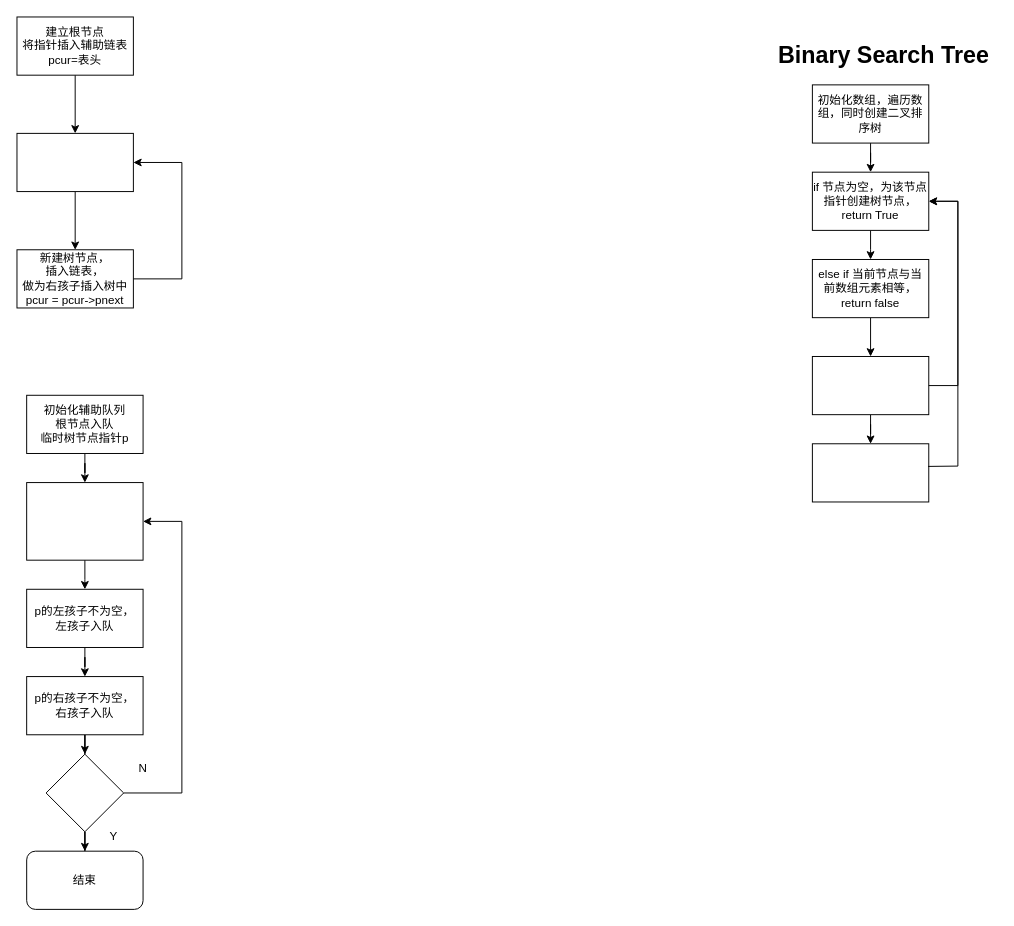
Image size: 1014x926. Some labels were removed from this diagram. The shapes that lost their labels are listed below. From the top down, each one's box as (x1, y1, x2, y2) in pixels, then its label:
(16, 132, 133, 192): 新建树节点， 插入链表， 做为左孩子插入树中
(811, 356, 929, 415): else if 当前节点的比当前数组元素小，return递归进入左孩子
(811, 443, 929, 502): else if 当前节点的比当前数组元素大，return递归进入右孩子
(26, 482, 143, 560): 出队把该树节点指针赋值给p，并打印
(45, 753, 124, 832): 队列为空
